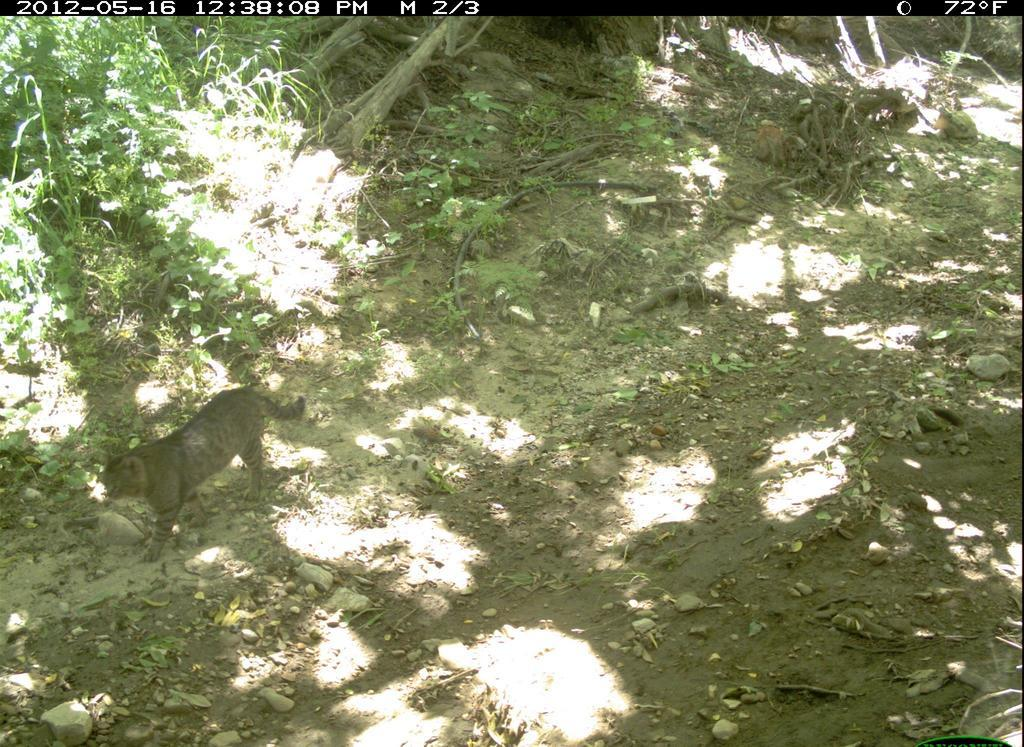cat: (81, 382, 338, 553)
